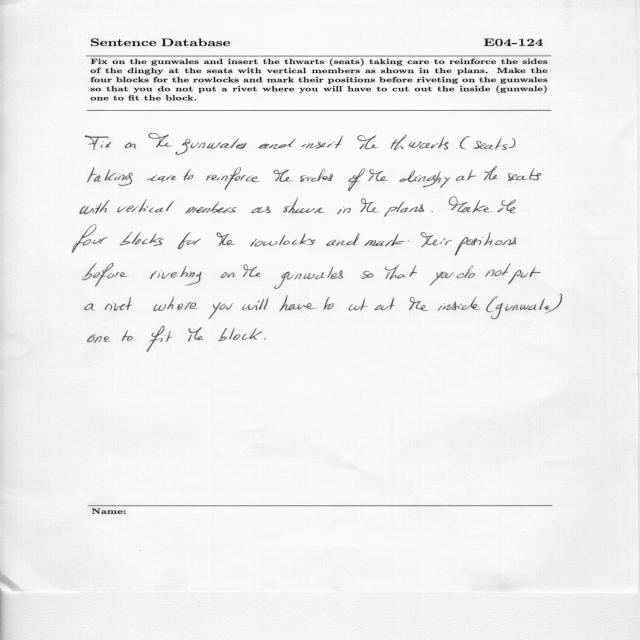word: (275, 267, 344, 289), (455, 232, 516, 256), (175, 138, 247, 155), (206, 167, 259, 190), (72, 224, 108, 253), (83, 263, 128, 286), (150, 266, 202, 285), (399, 170, 450, 188), (250, 233, 315, 247), (390, 135, 449, 150), (88, 167, 133, 186), (117, 199, 174, 213), (153, 296, 198, 311), (283, 198, 325, 214), (147, 326, 172, 352), (384, 201, 424, 217), (449, 197, 491, 212), (120, 232, 165, 246), (508, 266, 541, 284), (279, 295, 316, 311), (365, 234, 410, 247), (185, 202, 237, 213), (219, 328, 263, 341), (301, 136, 343, 149), (438, 297, 478, 310), (385, 264, 417, 280), (421, 232, 452, 247), (508, 168, 542, 181), (326, 233, 360, 246), (540, 294, 563, 313), (300, 169, 333, 182), (208, 302, 233, 319), (258, 138, 296, 149), (80, 200, 109, 214), (104, 297, 132, 311), (348, 168, 365, 191), (178, 233, 201, 250), (486, 296, 503, 319), (85, 135, 111, 150), (149, 133, 173, 148), (485, 264, 511, 277), (430, 272, 454, 286), (242, 298, 268, 310), (357, 135, 378, 149), (361, 198, 380, 213), (409, 297, 428, 311), (273, 169, 293, 182), (375, 297, 395, 310), (497, 200, 516, 213), (495, 138, 515, 150), (368, 169, 388, 181), (188, 327, 204, 342), (217, 233, 235, 246), (457, 266, 475, 279), (456, 170, 477, 181), (349, 299, 368, 311), (505, 304, 537, 311), (243, 264, 260, 277), (147, 175, 176, 182), (484, 167, 498, 181), (88, 334, 109, 343), (474, 141, 493, 149), (323, 297, 334, 310), (251, 207, 271, 214), (122, 330, 133, 341), (184, 169, 194, 181), (460, 136, 469, 149), (337, 207, 351, 214), (362, 271, 374, 279), (124, 142, 136, 149), (221, 272, 235, 278), (85, 304, 94, 311), (264, 338, 266, 340), (431, 211, 433, 212)
